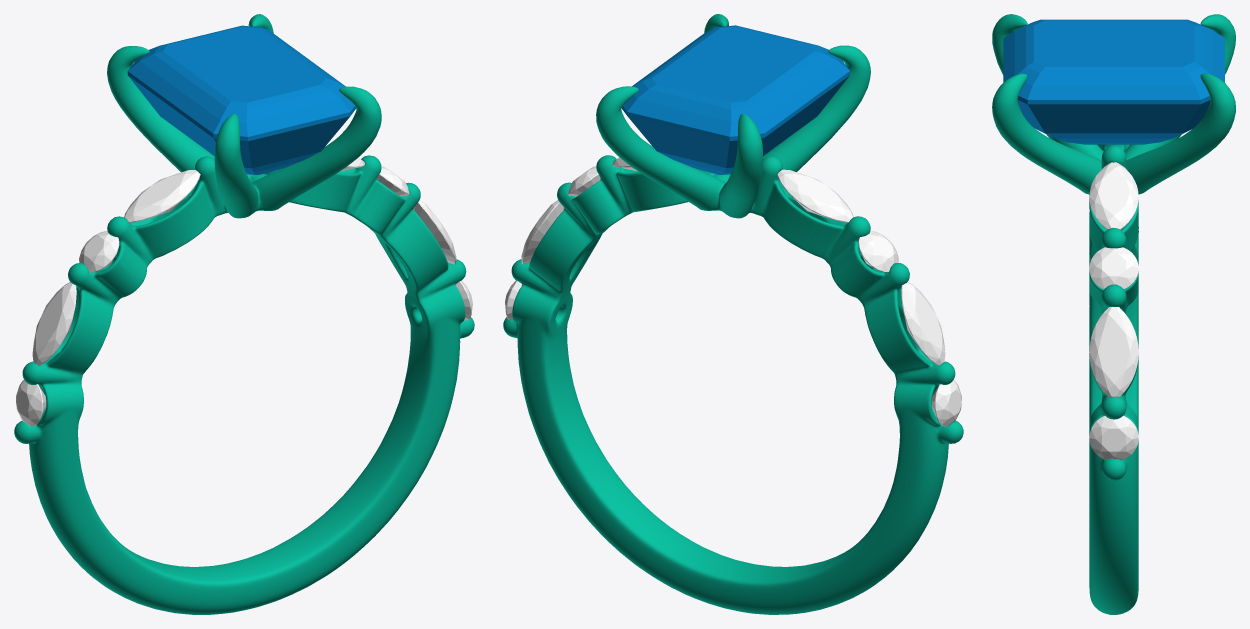
Rendered from BE1D378_EM_200ct_RENDER.glb.
The picture shows the model from 3 angles, left to right: view 1: azimuth 30°, elevation 25°; view 2: azimuth 150°, elevation 25°; view 3: azimuth 270°, elevation 25°; orthographic projection.
Parts seen in each view (by area): view 1: Metal 01, CS_Diamond_Emerald, Diamond_Marquise_Gem_SH.002, Diamond_Marquise_Gem_SH.003, Diamond_Round_Gem_SH.001, Diamond_Round_Gem_SH, Diamond_Marquise_Gem_SH.005; view 2: Metal 01, CS_Diamond_Emerald, Diamond_Marquise_Gem_SH.002, Diamond_Marquise_Gem_SH.003, Diamond_Round_Gem_SH.001, Diamond_Round_Gem_SH, Diamond_Marquise_Gem_SH.005; view 3: Metal 01, CS_Diamond_Emerald, Diamond_Marquise_Gem_SH.005, Diamond_Marquise_Gem_SH.004, Diamond_Round_Gem_SH.007, Diamond_Round_Gem_SH.006.
Part boxes in pixels (x1,y1,x2,y2): Metal 01: (14,14,474,614); CS_Diamond_Emerald: (127,25,355,174); Diamond_Marquise_Gem_SH.002: (32,282,76,365); Diamond_Marquise_Gem_SH.003: (124,170,200,222); Diamond_Round_Gem_SH.001: (79,231,119,272); Diamond_Round_Gem_SH: (16,380,46,426); Diamond_Marquise_Gem_SH.005: (413,200,456,264); Metal 01: (503,14,963,614); CS_Diamond_Emerald: (621,25,849,174); Diamond_Marquise_Gem_SH.002: (901,282,945,365); Diamond_Marquise_Gem_SH.003: (777,169,853,222); Diamond_Round_Gem_SH.001: (858,231,898,272); Diamond_Round_Gem_SH: (931,379,961,426); Diamond_Marquise_Gem_SH.005: (521,200,564,264); Metal 01: (992,14,1235,614); CS_Diamond_Emerald: (1003,19,1224,144); Diamond_Marquise_Gem_SH.005: (1089,307,1138,396); Diamond_Marquise_Gem_SH.004: (1089,162,1138,229); Diamond_Round_Gem_SH.007: (1089,415,1138,459); Diamond_Round_Gem_SH.006: (1089,247,1138,289).
Size of the model in its own units: 21.66 by 24.56 by 9.9.
